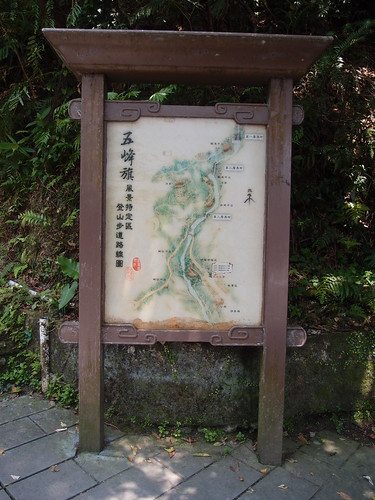wufengciMap: (112, 125, 263, 270)
